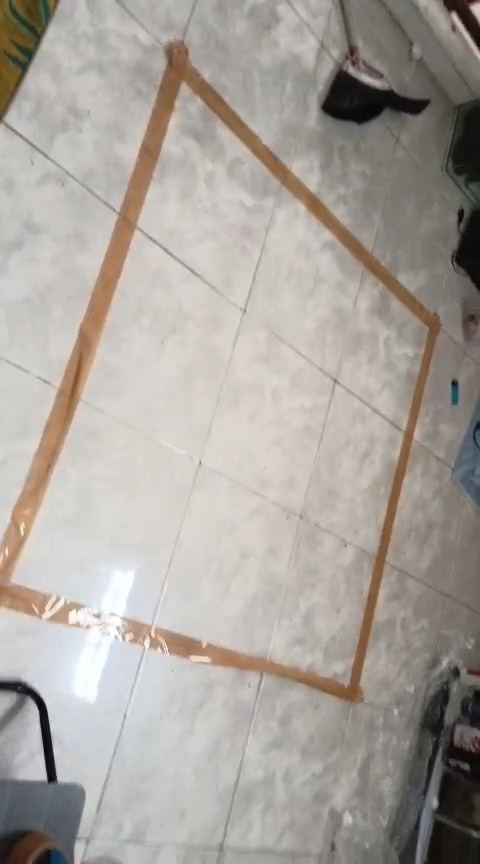floor marking: (1, 41, 440, 701)
